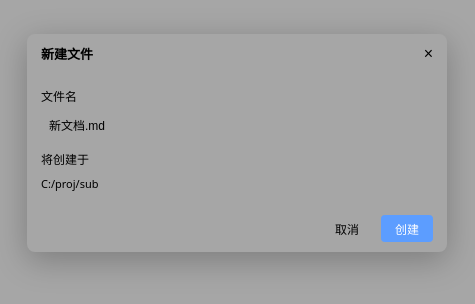
Test case: v0.8.4 NewFileDialog 组件 › 空名不提交并提示
Clear the field labelled "文件名" at (237, 125), box [41,112,433,138]
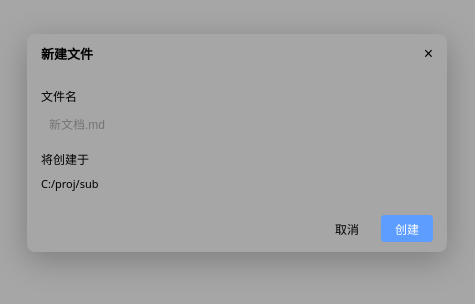
Click the button "创建" at (407, 228), box [381,215,433,242]
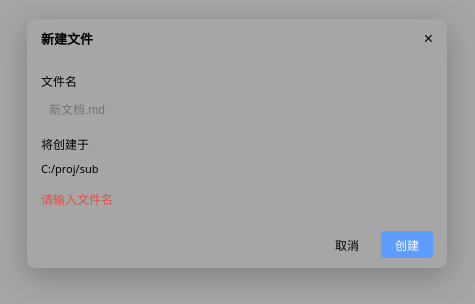
Check: the element with class "newfile-overlay" shows "请输入文件名", box [41,190,113,207]
